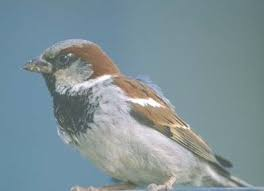hsparrow: (20, 32, 256, 191)
